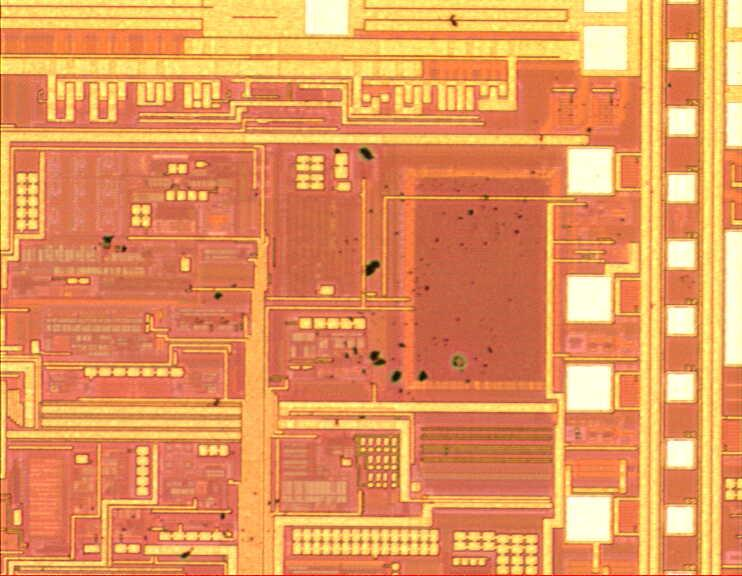PO CONTAMINATION: (91, 13, 677, 567)
